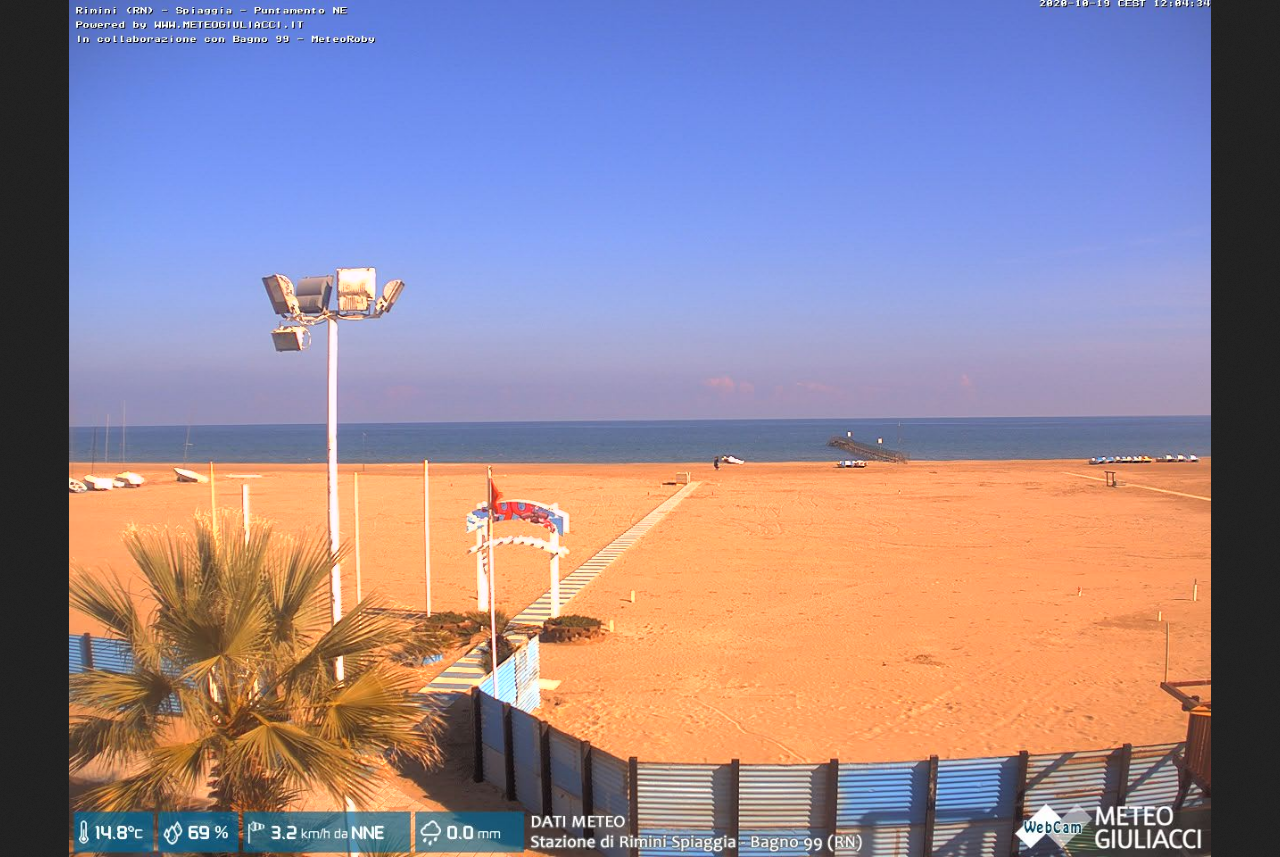maybe: (489, 481, 504, 515)
